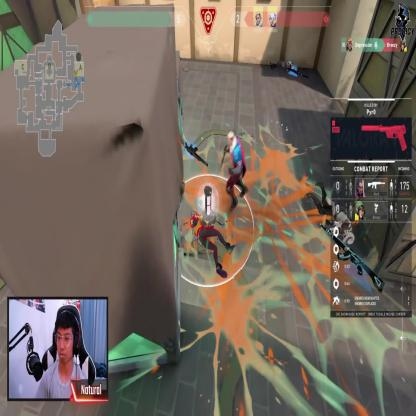enemy: (226, 131, 248, 210)
enemy_head: (227, 132, 235, 146)
